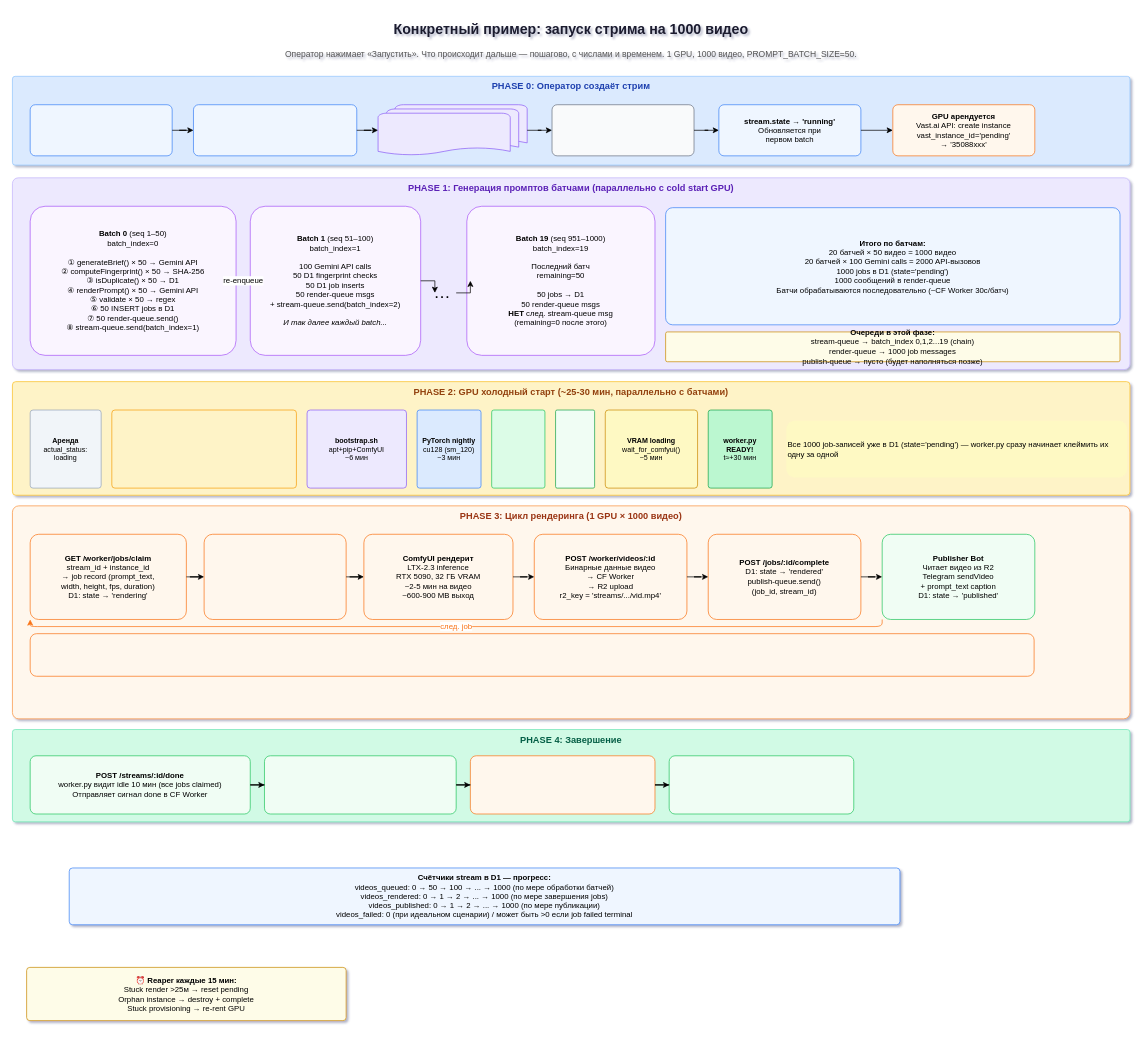
This 1147x1037 diagram has some shape labels left out. Each missing label, with the centre of its shape:
"1000 видео в канале Каждое — уникальный промпт Нет повторов" goes at (x=761, y=784).
"CF Queue принял Сообщение в очереди Consumer запустится в течение секунд" goes at (x=622, y=130).
"ComfyUI старт" goes at (x=575, y=448).
"D1 INSERT streams (state='queued') vast_instance_id = NULL videos_rendered = 0" goes at (x=275, y=130).
"Docker pull pytorch:2.6.0 ~13-15 мин" goes at (x=203, y=448).
"LTX-2.3 из R2 46 ГБ @500 MB/s ~1.5 мин" goes at (x=518, y=448).
"POST /prompt ComfyUI workflow JSON с prompt_text → prompt_id" goes at (x=274, y=576).
"Reaper orphan sweep (или /done сигнал) → stream.state → 'completed'" goes at (x=360, y=784).
"stream-queue.send() batch_index=0 batch_size=50 seq_start=1" goes at (x=452, y=130).
"Vast.ai DELETE instance GPU уничтожен Расходы прекращаются" goes at (x=562, y=784).
"Настройки стрима total_videos = 1000 duration_secs = 5 fps = 24 aspect = 9:16" goes at (x=100, y=130).
"↩ повторяется 1000 раз" goes at (x=531, y=654).
